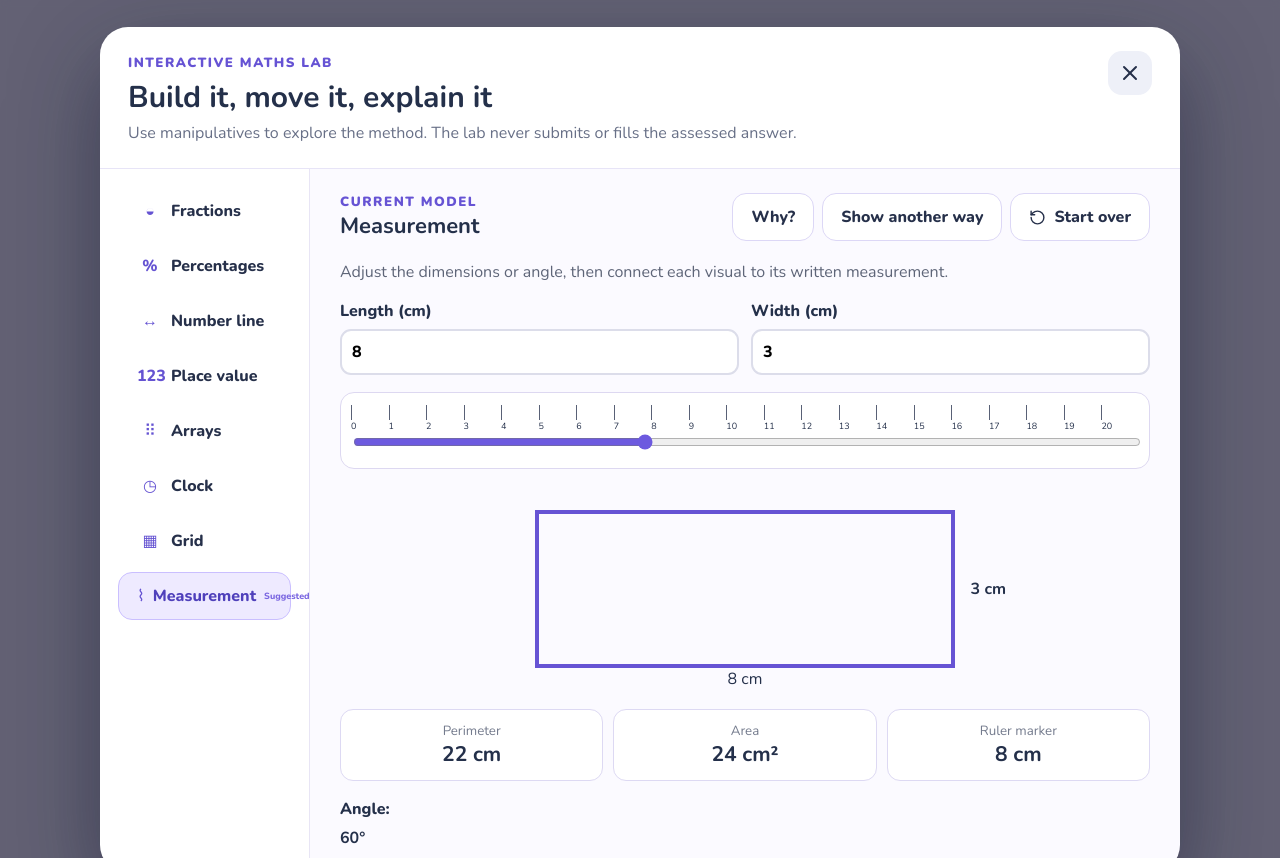
Test case: interactive Maths Lab › links ruler and rectangle dimensions to perimeter and area
This screenshot has width=1280, height=858.
Set the slider named "Ruler marker" to "10" at (727, 442), box x1=353 y1=434 x2=1141 y2=450
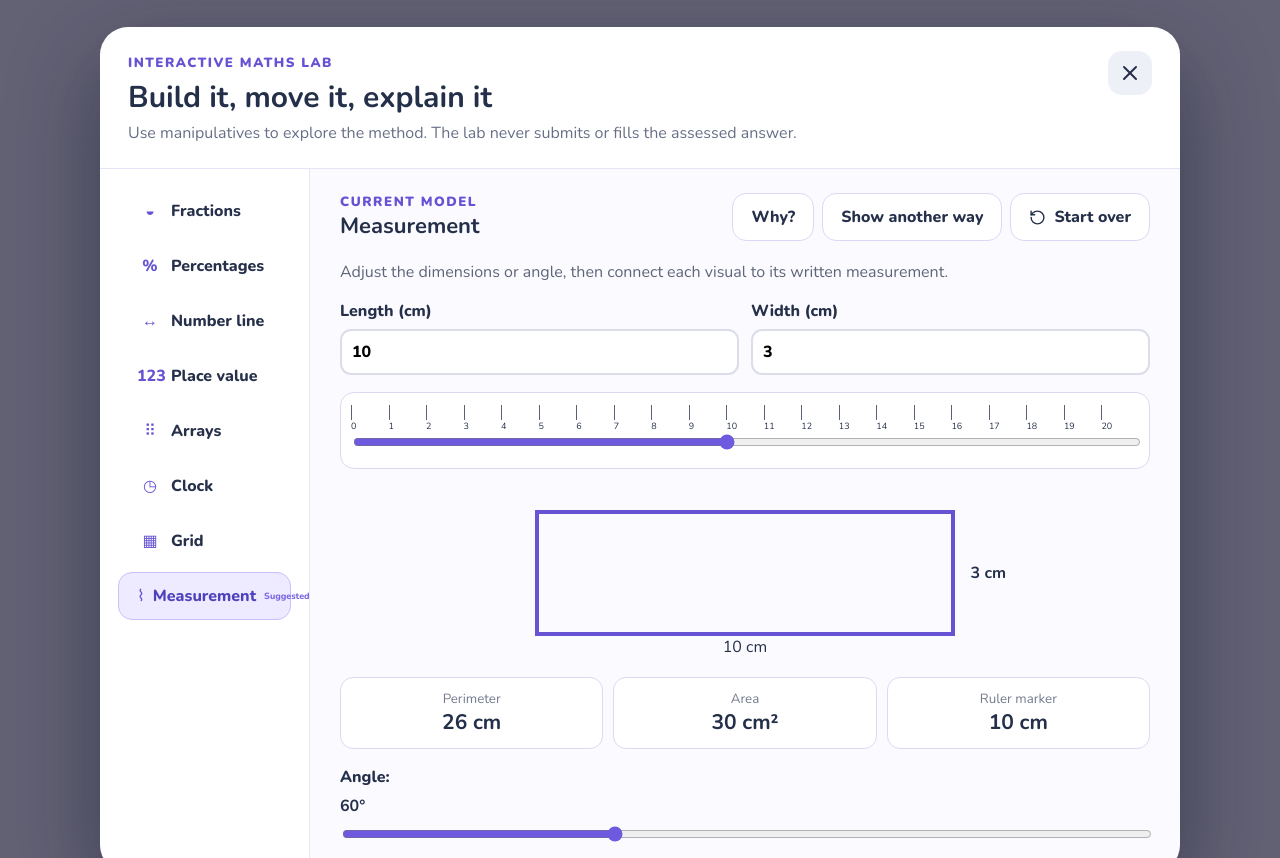
Replace the text in the number field named "Rectangle width" with "4" at (950, 352), box x1=751 y1=329 x2=1150 y2=375
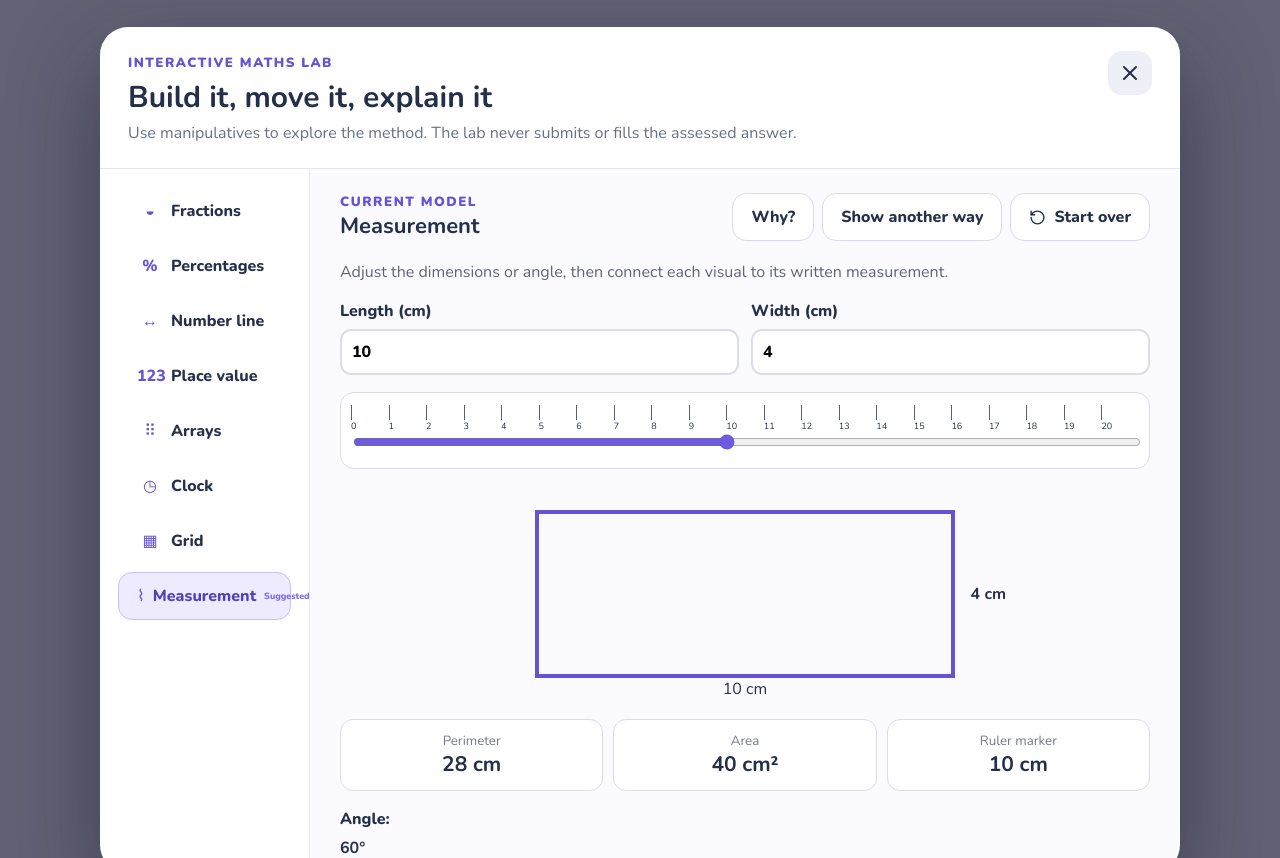
Now the text "28 cm" is shown, box x1=442 y1=750 x2=501 y2=778
Now the text "40 cm²" is shown, box x1=711 y1=750 x2=779 y2=778
